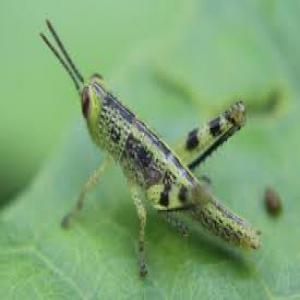locust: (50, 21, 279, 268)
